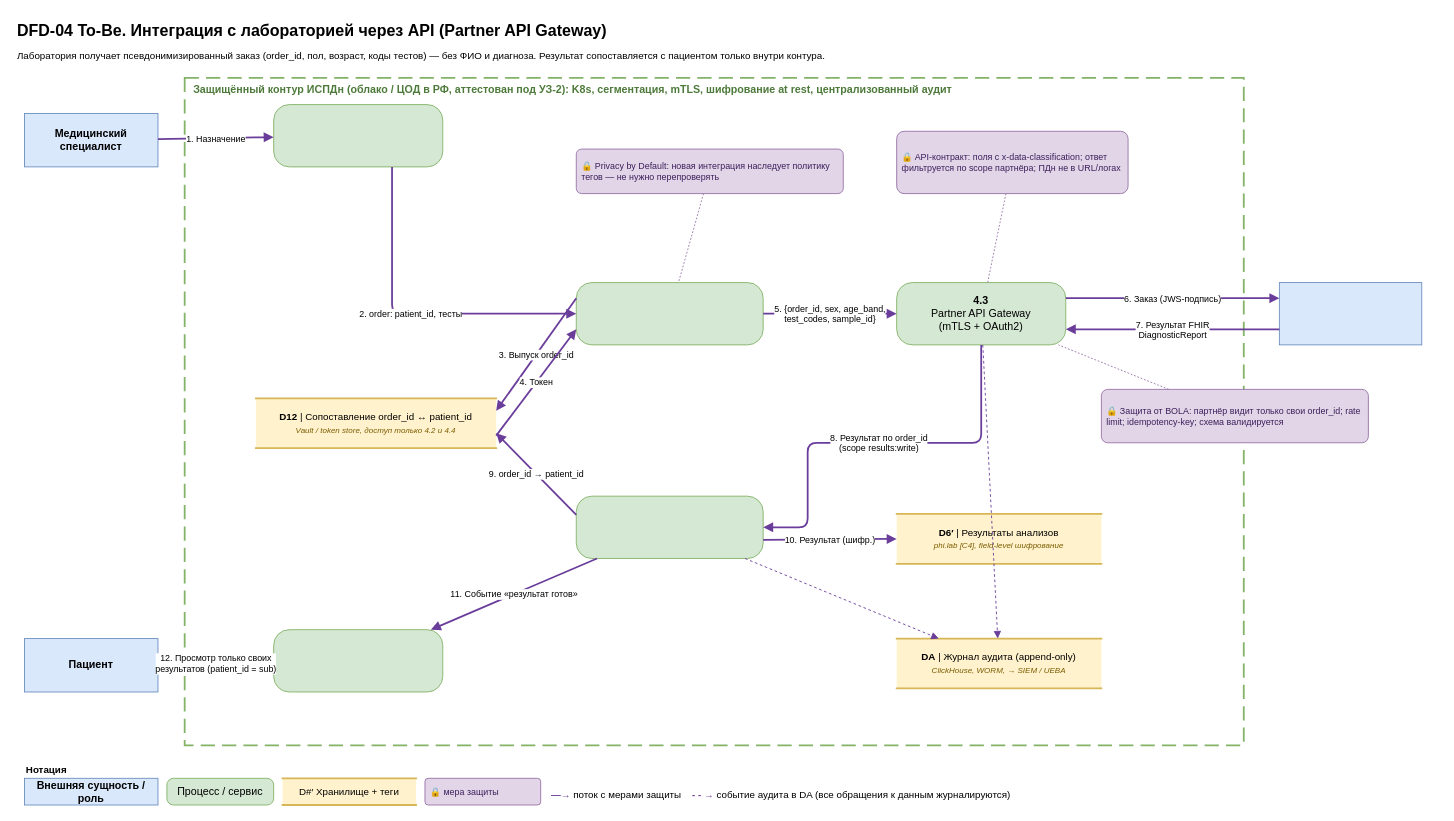
The diagram is 1454 pixels wide and 821 high, and some of its shapes have lost their labels. The shapes that lost their labels are listed below. From the top down, each one's centre as x and y in pixels, then its label:
At point 358,135: "4.1 Направление в EHR (коды тестов)".
At point 669,313: "4.2 Lab Integration Service (псевдонимизация)".
At point 1350,313: "Лаборатория (партнёр, договор поручения)".
At point 669,526: "4.4 Приём результата, ре-идентификация".
At point 358,660: "4.5 ЛК пациента".
